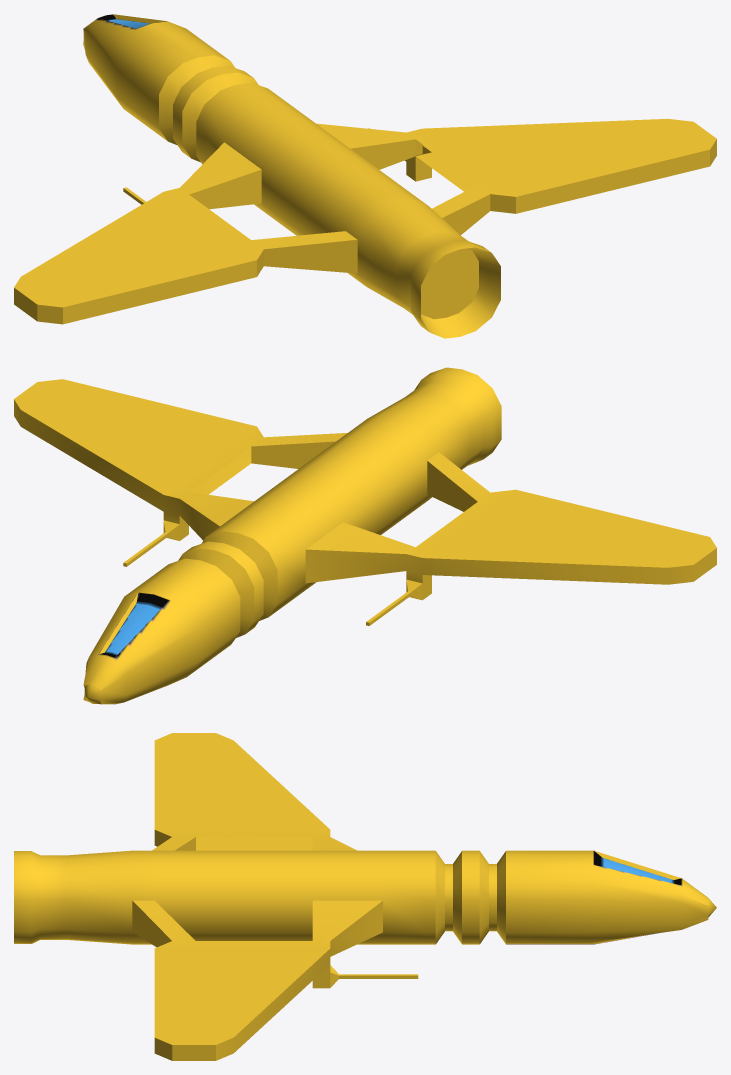
File: enemyshipc.fbx
The picture shows the model from 3 angles, top to bottom: view 1: azimuth 30°, elevation 25°; view 2: azimuth 150°, elevation 25°; view 3: azimuth 270°, elevation 25°; orthographic projection. The views are drawn at different scales.
Visible parts, largest first — view 1: Ship; view 2: Ship; view 3: Ship.
Part boxes in pixels (bbox=[...]): Ship: bbox=[14, 14, 716, 338]; Ship: bbox=[14, 367, 716, 704]; Ship: bbox=[14, 733, 716, 1060].
Size of the model in its own units: 8.4 by 1.05 by 8.
1 material, 1 textured.
